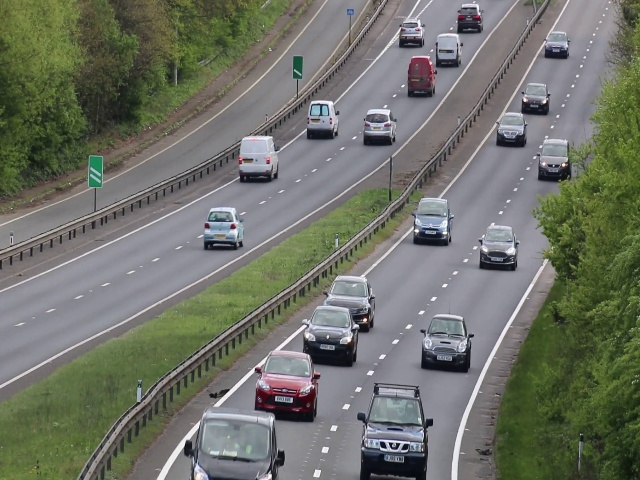car: (358, 386, 433, 479), (191, 408, 278, 480), (254, 347, 318, 422), (305, 304, 358, 366), (422, 311, 473, 371), (327, 272, 374, 322), (234, 132, 281, 179), (480, 221, 519, 272), (413, 197, 453, 244), (202, 205, 243, 248), (304, 99, 342, 139), (407, 54, 438, 98), (538, 140, 571, 180), (361, 109, 395, 144), (495, 113, 527, 148), (432, 32, 463, 66), (454, 2, 486, 34), (520, 81, 550, 113), (541, 27, 571, 58), (399, 17, 427, 45)
